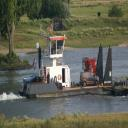tugboat: (19, 33, 115, 103)
